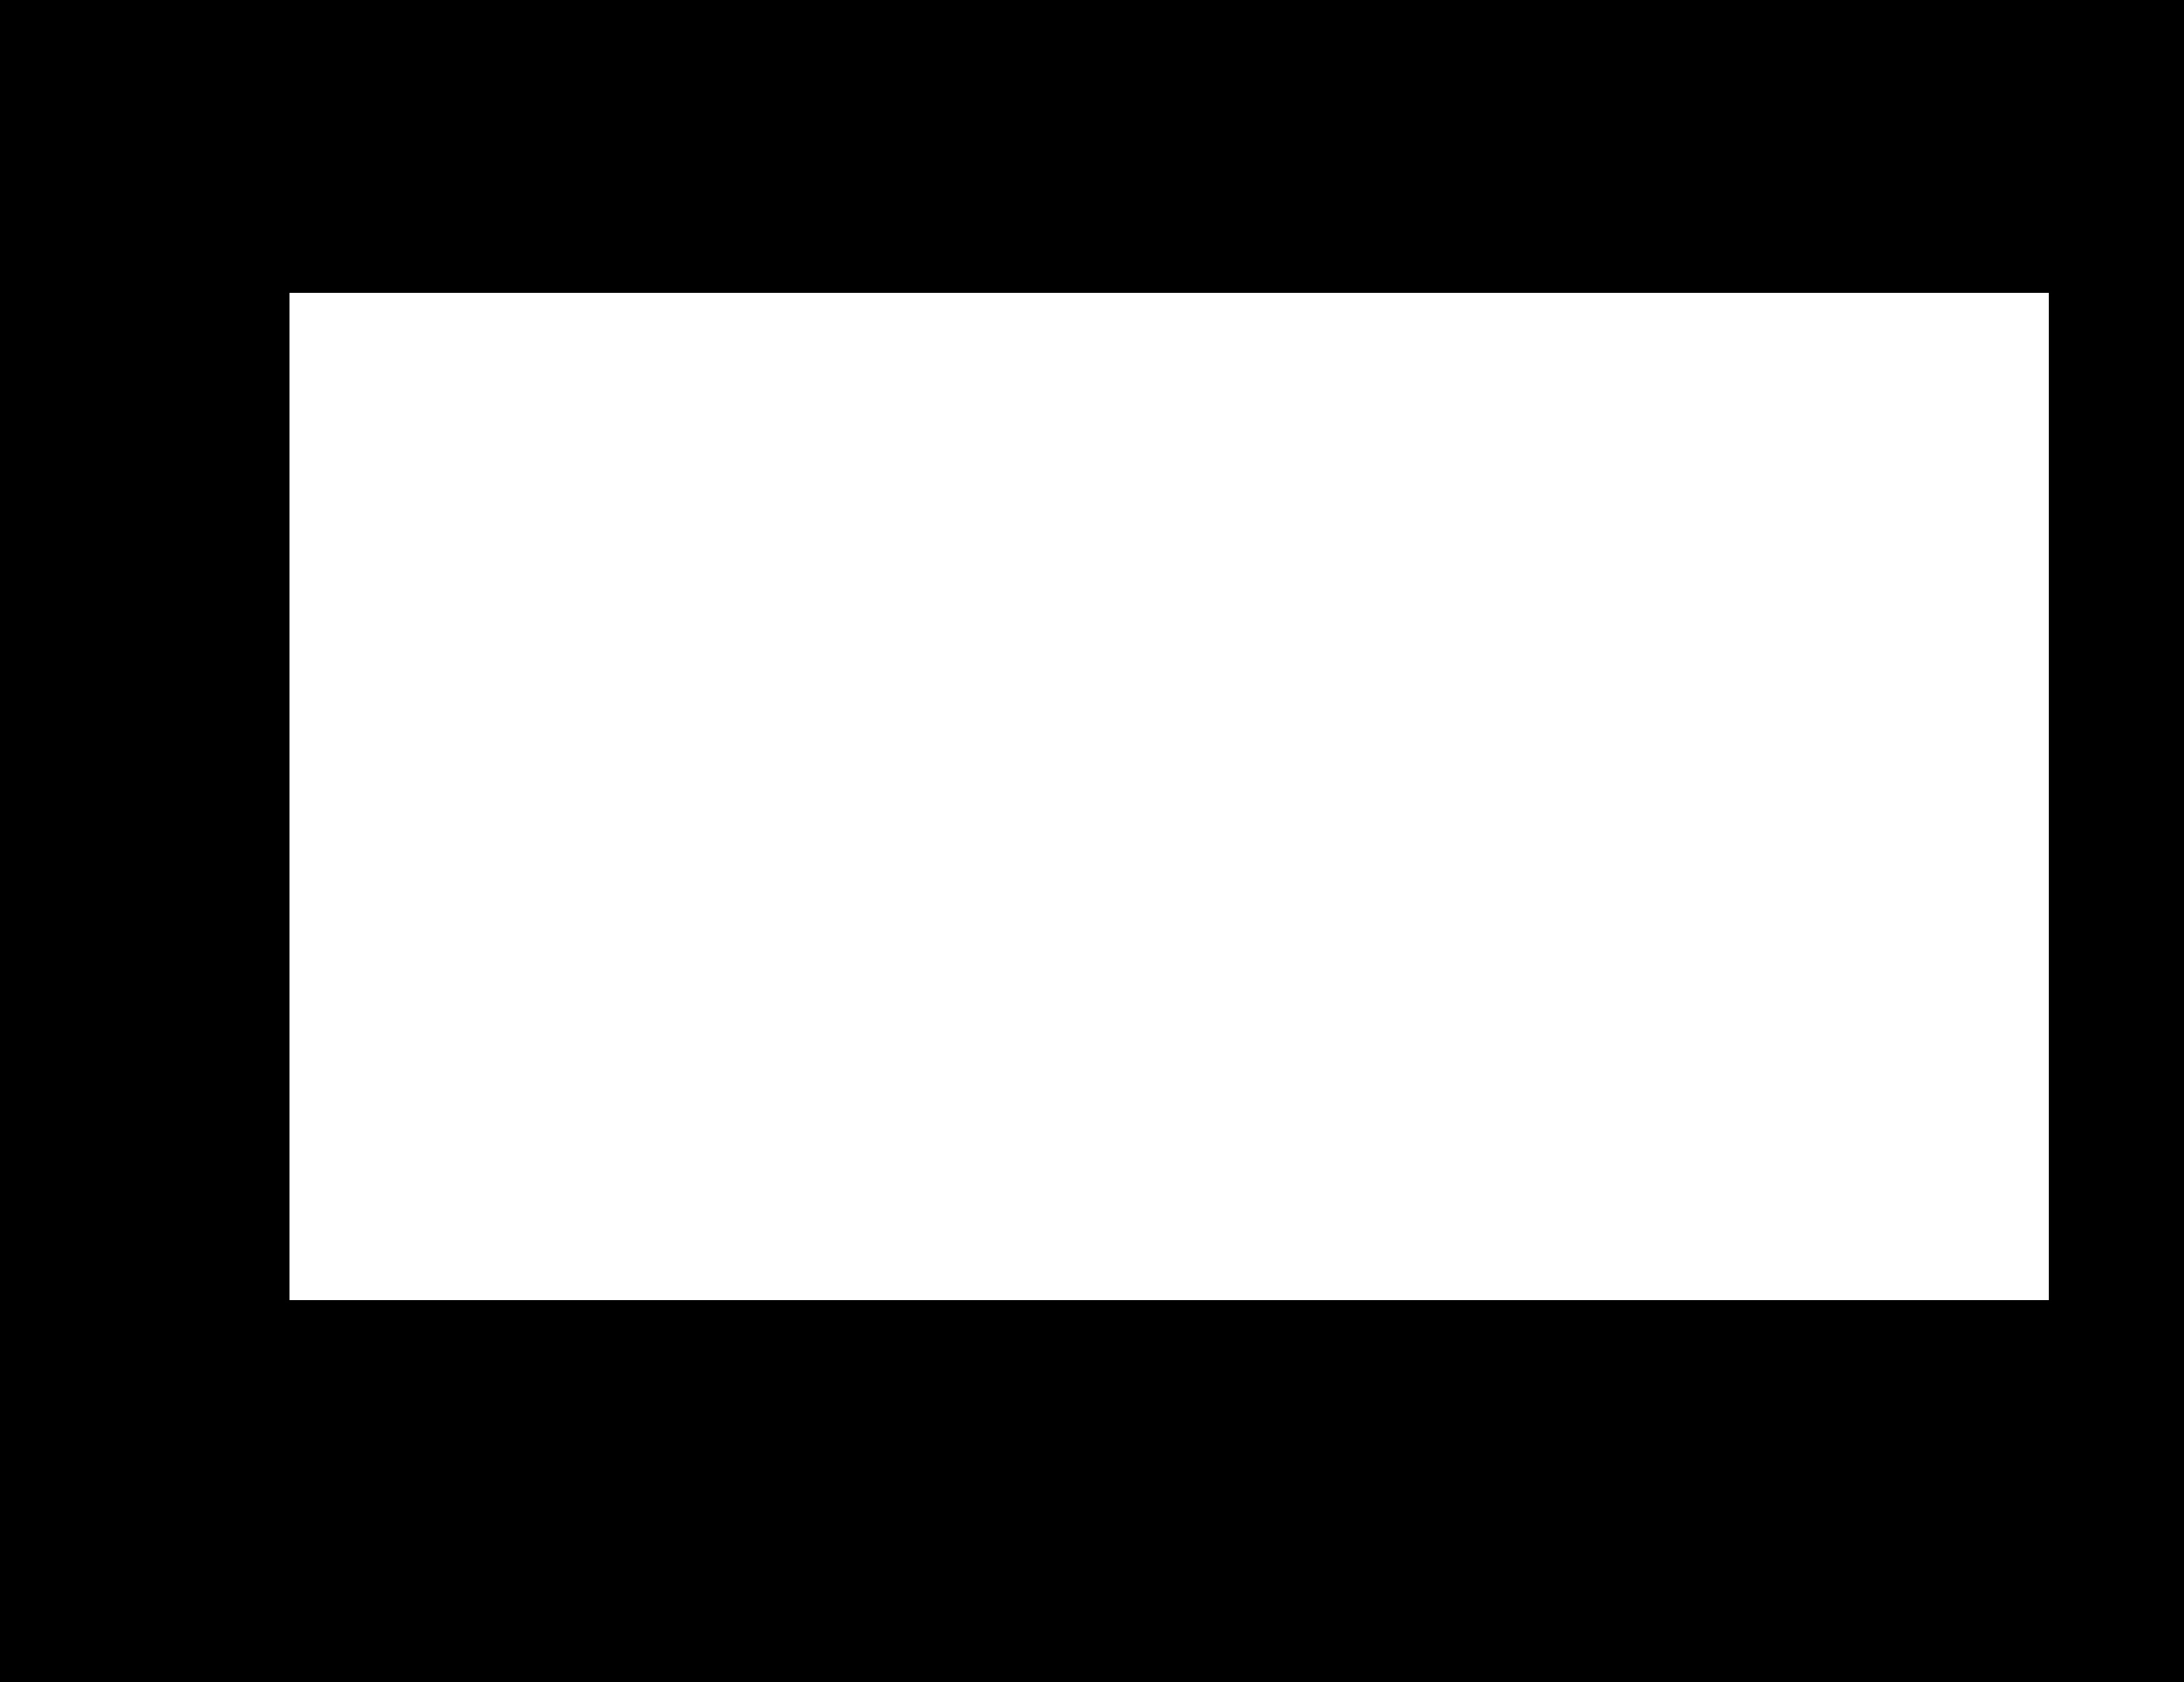table: (290, 293, 2048, 1299)
